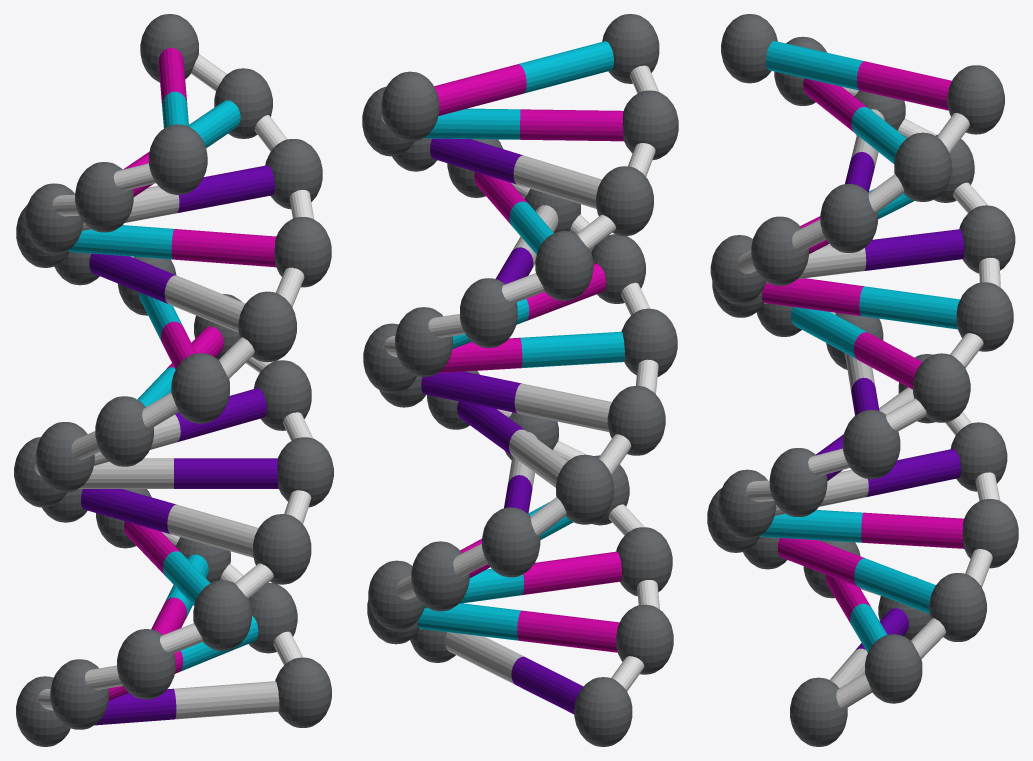
Rendered from DNAmodel.glb.
3 views of the same model, side by side, from view 1: azimuth 30°, elevation 25°; view 2: azimuth 150°, elevation 25°; view 3: azimuth 270°, elevation 25° (orthographic).
Visible parts, largest first — view 1: Mesh_Mesh_head_geo.001_lambert2SG.001; view 2: Mesh_Mesh_head_geo.001_lambert2SG.001; view 3: Mesh_Mesh_head_geo.001_lambert2SG.001.
Part boxes in pixels (left/top/right/bottom): Mesh_Mesh_head_geo.001_lambert2SG.001: left=14, top=14, right=333, bottom=746; Mesh_Mesh_head_geo.001_lambert2SG.001: left=362, top=14, right=678, bottom=746; Mesh_Mesh_head_geo.001_lambert2SG.001: left=707, top=14, right=1018, bottom=746.
Bounding box in the file's own units: 75.48 × 173 × 74.96.
